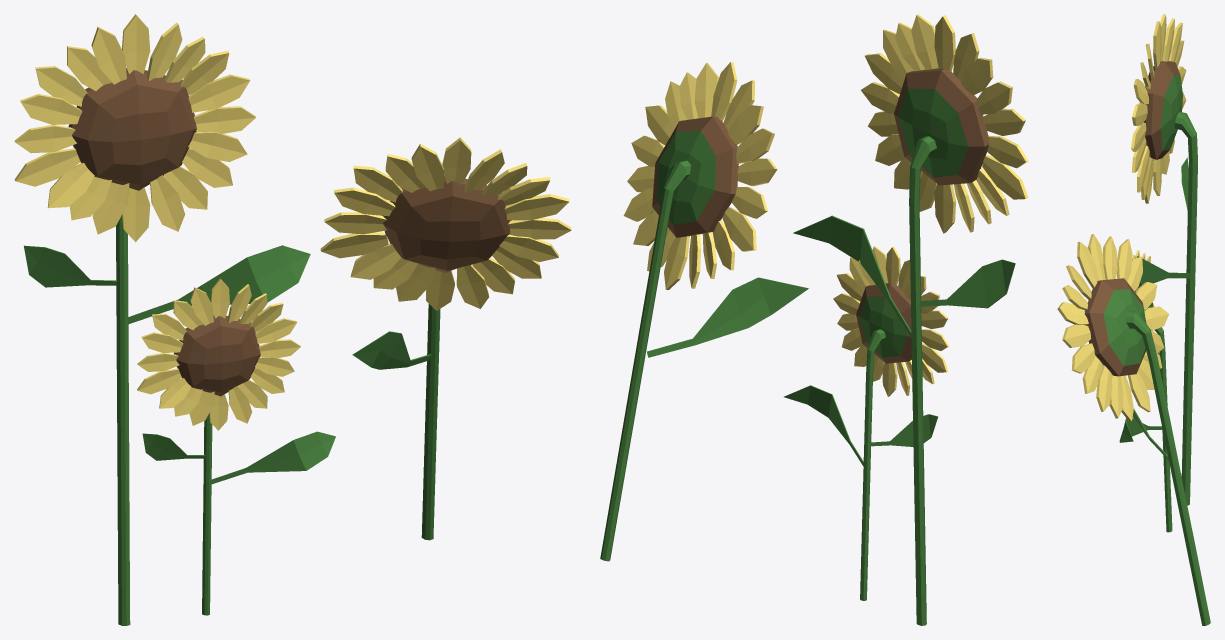
The model's file is Sunflowers_1.fbx.
3 renders of one model, left to right at view 1: azimuth 30°, elevation 25°; view 2: azimuth 150°, elevation 25°; view 3: azimuth 270°, elevation 25°, orthographic. The views are drawn at different scales.
Visible parts, largest first — view 1: Sunflowers_1; view 2: Sunflowers_1; view 3: Sunflowers_1.
Part boxes in pixels (x1,y1,x2,y2): Sunflowers_1: (14, 14, 571, 625); Sunflowers_1: (600, 14, 1028, 625); Sunflowers_1: (1057, 14, 1210, 625).
Bounding box in the file's own units: 146 × 51.63 × 179.
